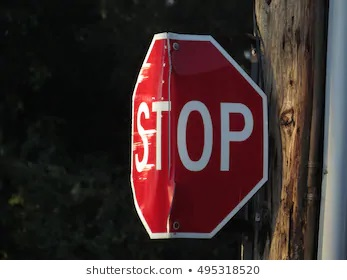stop: (133, 32, 269, 239), (165, 34, 268, 238)
